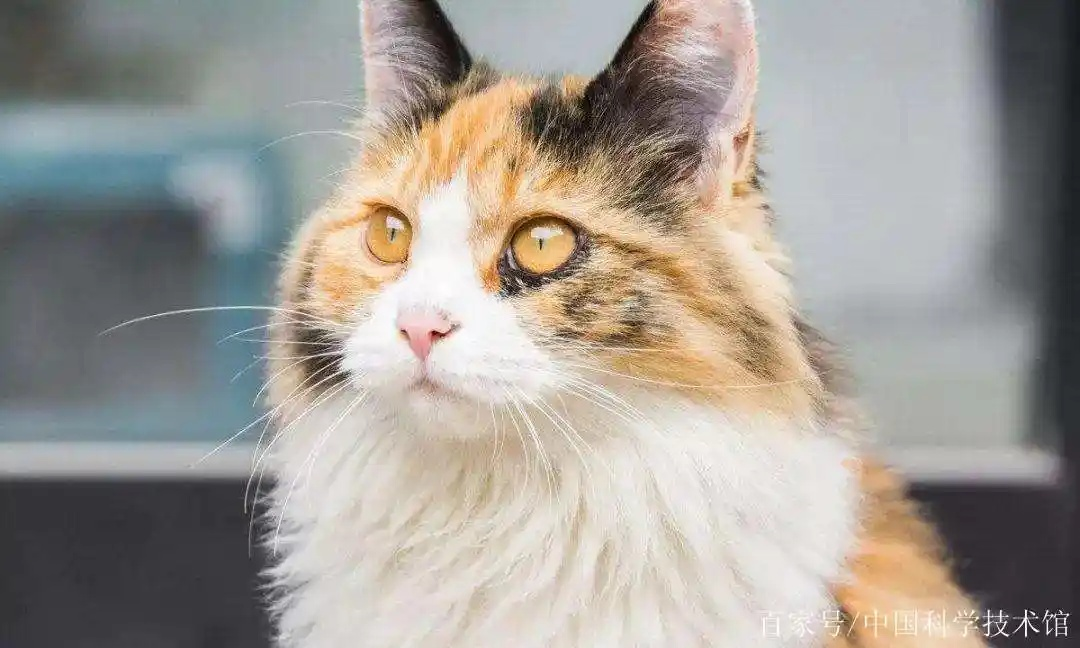三花猫: (264, 3, 855, 643)
